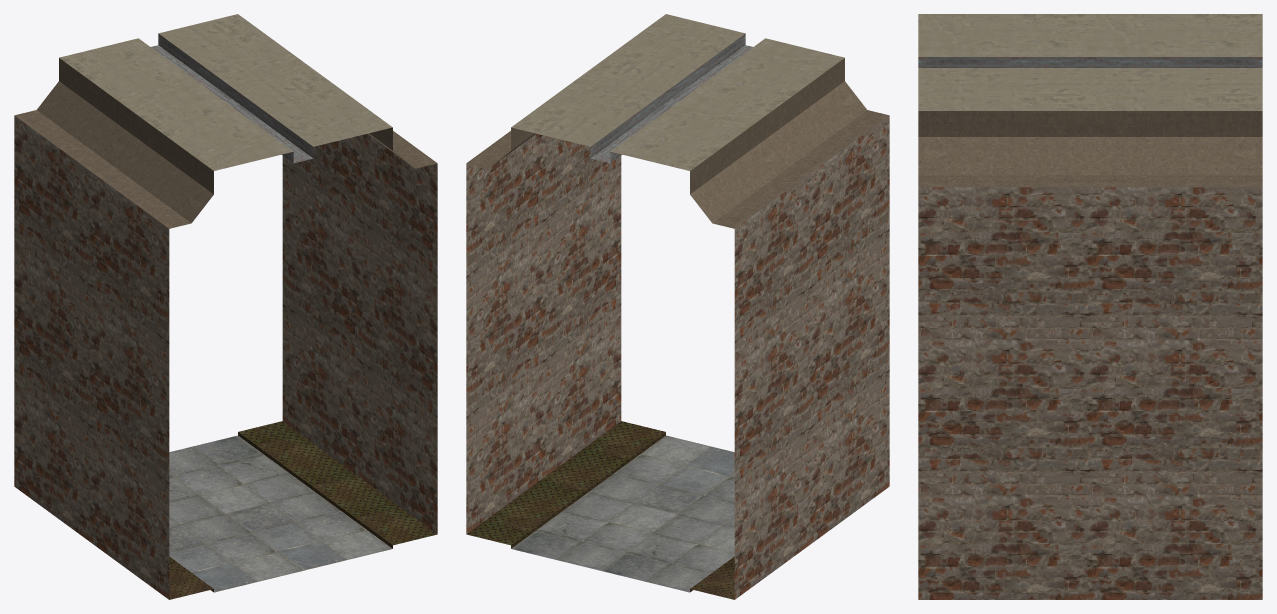
The model's file is 3x3_straight_hallway.fbx.
The picture shows the model from 3 angles, left to right: view 1: azimuth 30°, elevation 25°; view 2: azimuth 150°, elevation 25°; view 3: azimuth 270°, elevation 25°; orthographic projection. The views are drawn at different scales.
Parts seen in each view (by area): view 1: 3x3StraightHallwayModel; view 2: 3x3StraightHallwayModel; view 3: 3x3StraightHallwayModel.
Part boxes in pixels (x1,y1,x2,y2): 3x3StraightHallwayModel: (14, 14, 437, 599); 3x3StraightHallwayModel: (466, 14, 889, 599); 3x3StraightHallwayModel: (918, 14, 1262, 599).
Bounding box in the file's own units: 300 × 450 × 300.
